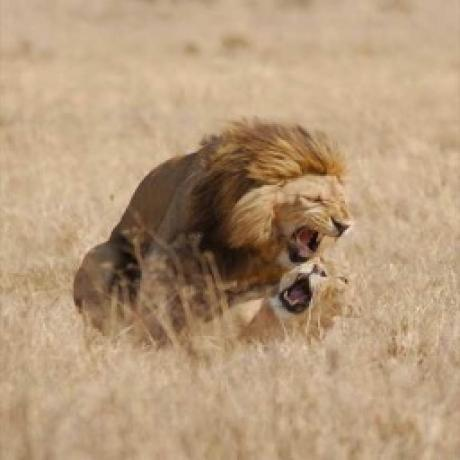Lion: (72, 118, 353, 342), (221, 255, 348, 345)
